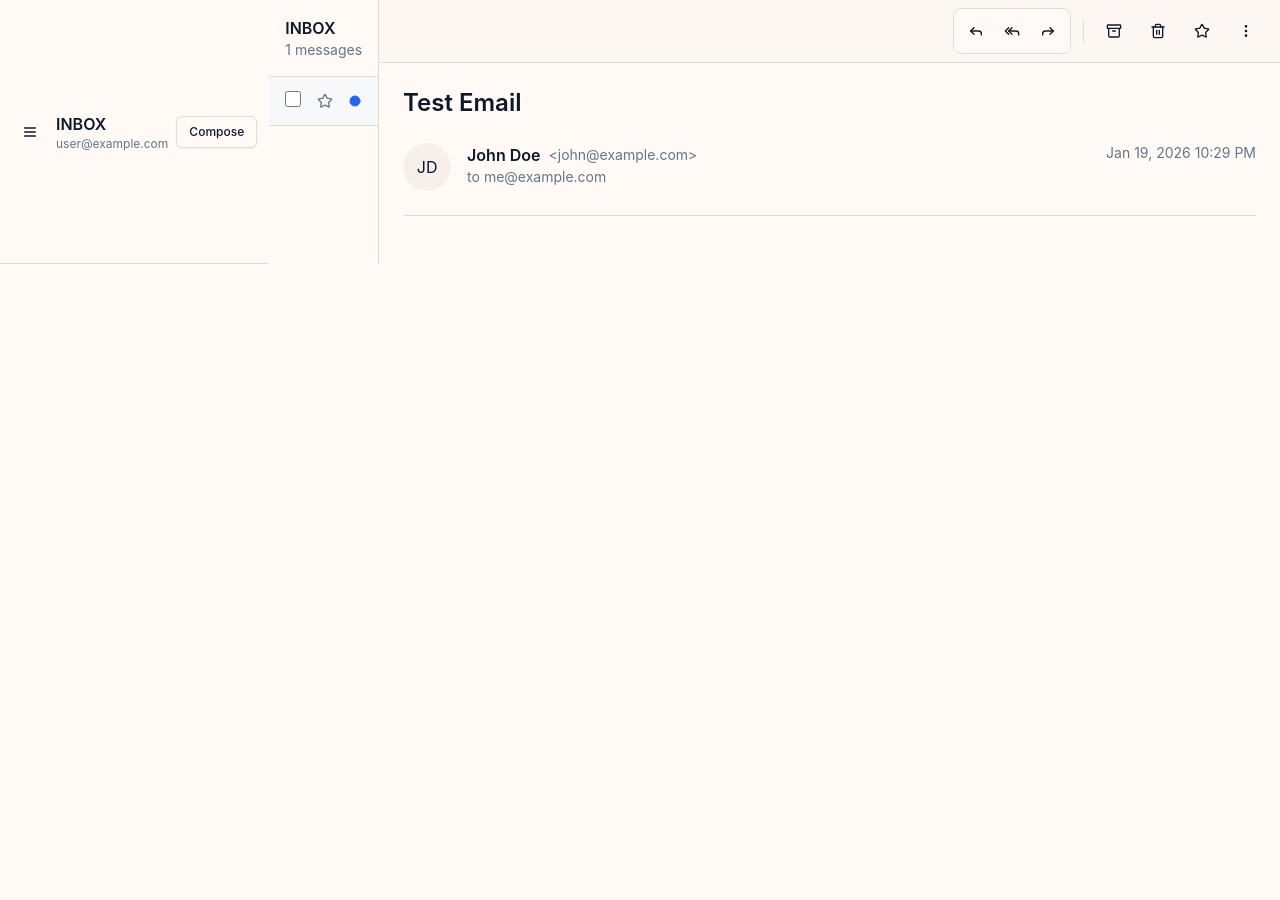
Test case: EmailClient › compose functionality › should open composer when Compose is clicked
Click the button "Compose": x=217, y=132 [176,116,257,148]
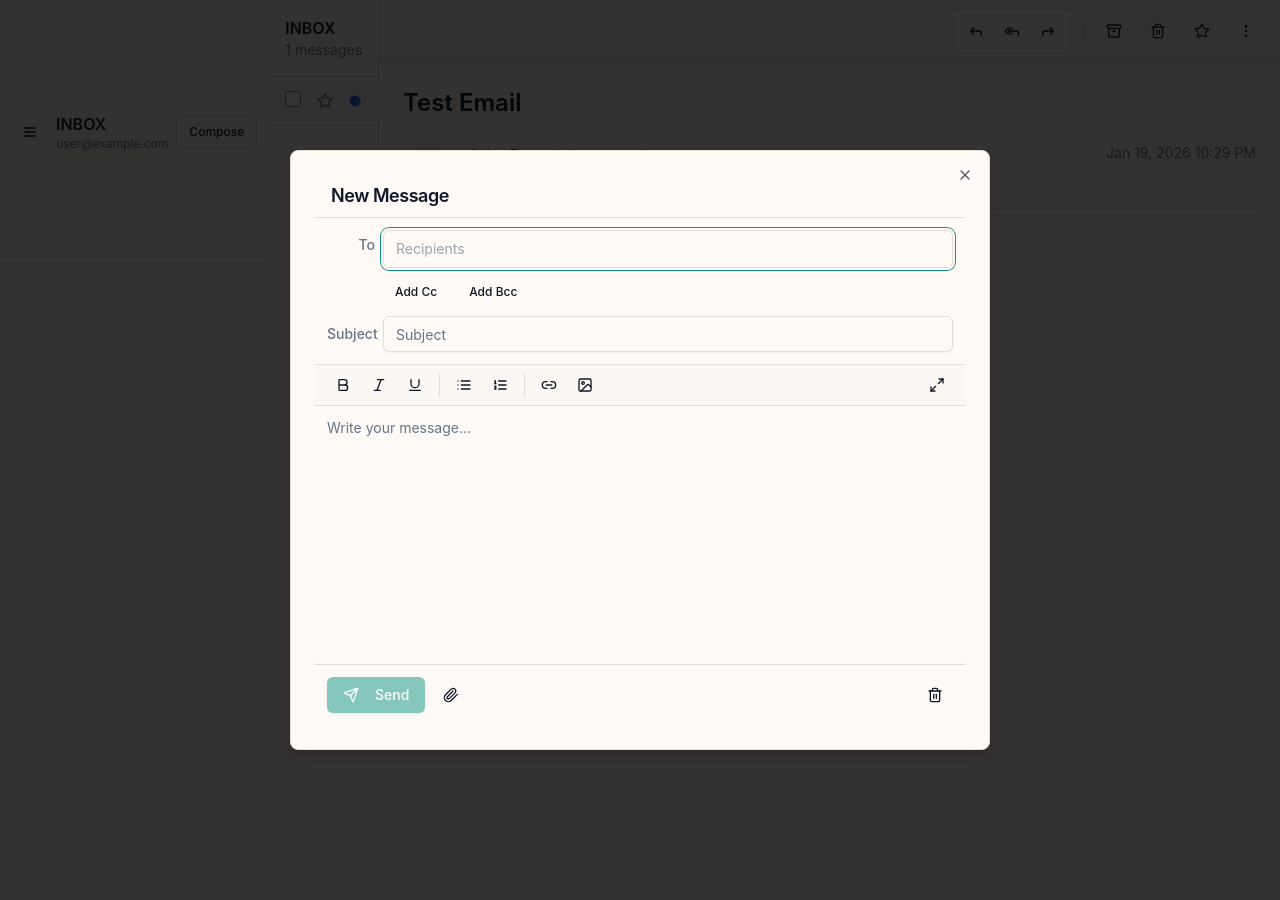
Check: the heading "New Message" is shown, box [331,185,449,206]
